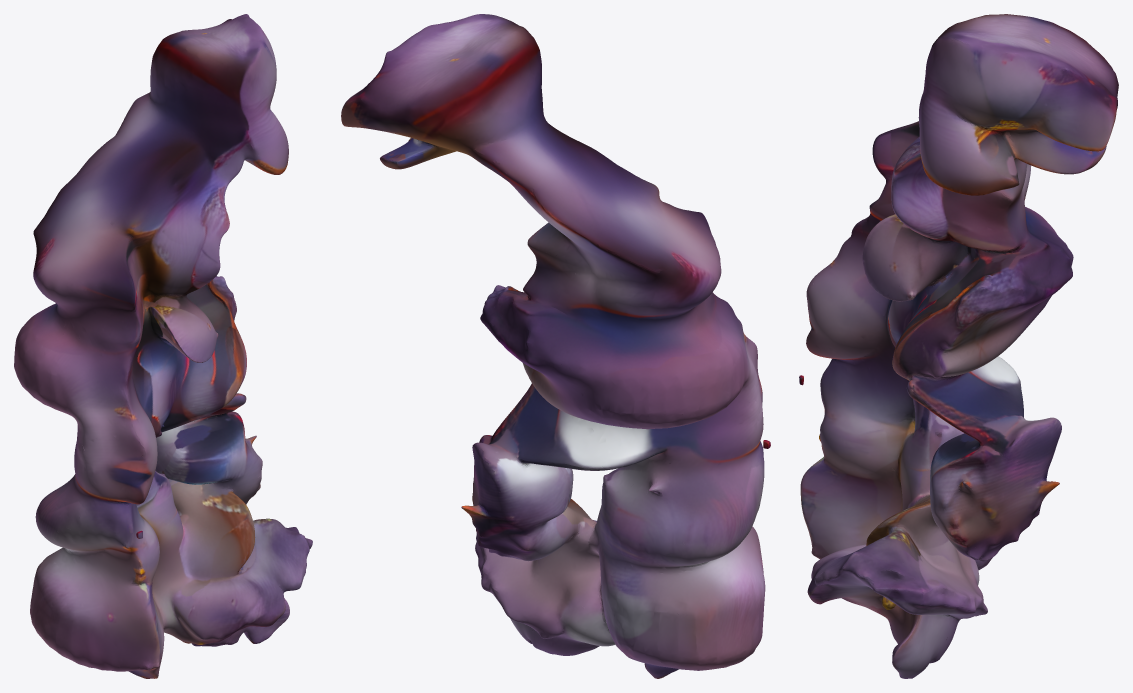
3 views of the same model, side by side, from view 1: azimuth 30°, elevation 25°; view 2: azimuth 150°, elevation 25°; view 3: azimuth 270°, elevation 25° (orthographic). The views are drawn at different scales.
Parts seen in each view (by area): view 1: model; view 2: model; view 3: model.
Part boxes in pixels (box(x1,y1,x2,y2)): model: box(14, 14, 312, 678); model: box(341, 14, 770, 678); model: box(799, 14, 1118, 678).
Size of the model in its own units: 0.9987 by 1.9 by 0.8416.
Materials: 1 (1 with a texture image).
